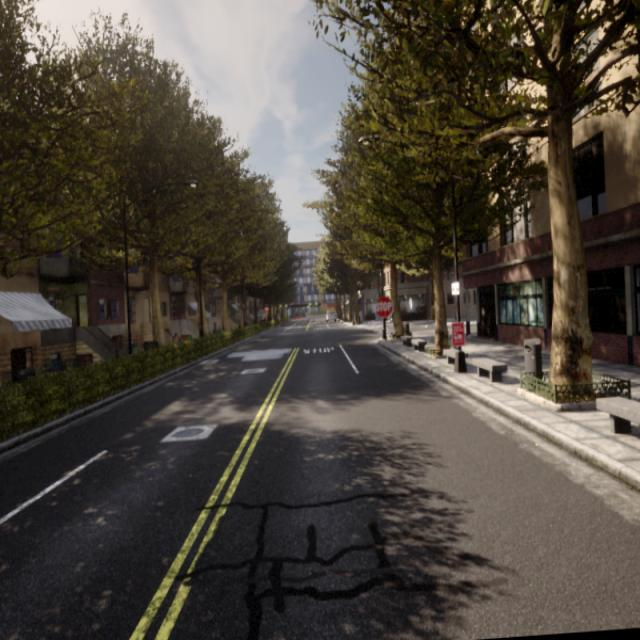stop sign: (373, 290, 395, 340), (374, 293, 394, 319)
